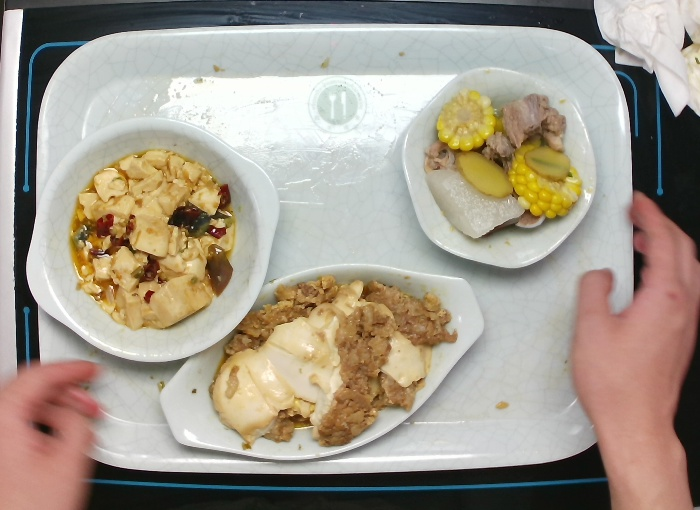JYsf-Shuang_Er_Wan: (22, 111, 282, 368)
JYsf-Yu_Pan: (157, 259, 486, 468)
WCQzf-Hua_Duo_Wan: (399, 63, 602, 275)
